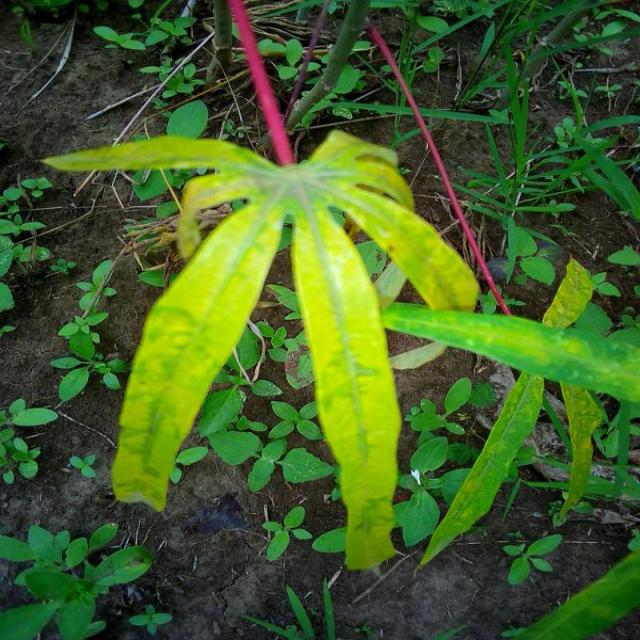cassava leaf: (40, 124, 634, 570), (110, 188, 288, 512), (291, 195, 404, 570)
